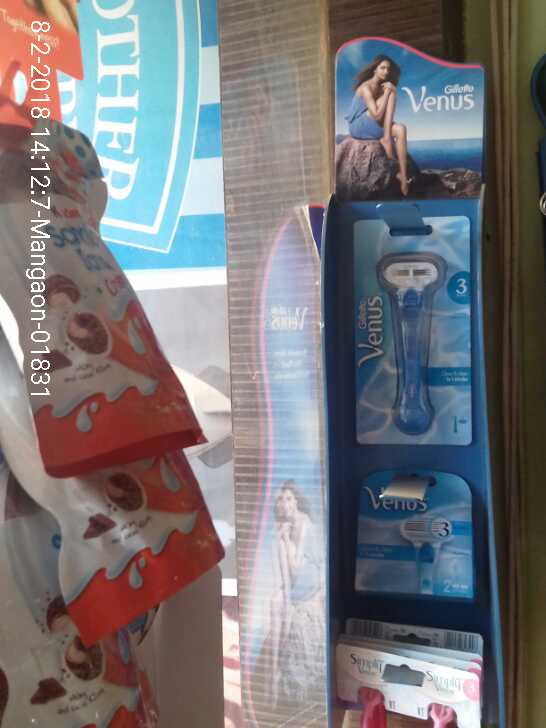venus: (345, 210, 473, 446), (348, 461, 481, 606)
